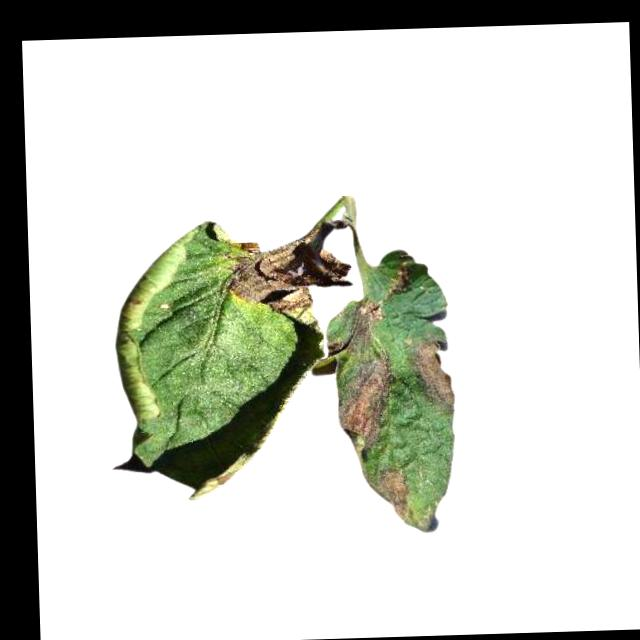Late_blight: (222, 241, 352, 319), (335, 353, 396, 461), (409, 336, 456, 415), (325, 296, 384, 357), (363, 469, 410, 522), (381, 263, 413, 299)
